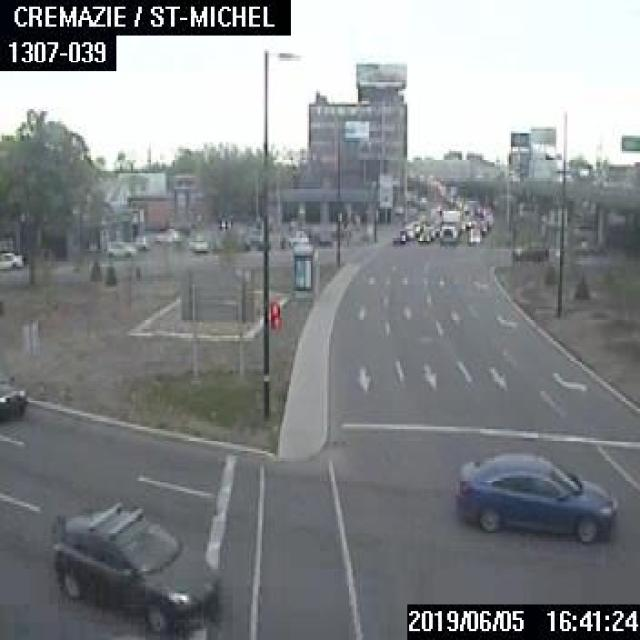vehicle: (45, 498, 222, 638), (453, 449, 618, 542), (0, 371, 29, 418), (437, 209, 460, 244), (507, 241, 549, 260), (0, 250, 22, 270), (153, 226, 180, 242), (106, 241, 134, 256), (188, 234, 208, 252), (465, 227, 480, 244), (132, 234, 147, 249), (391, 228, 405, 244), (416, 228, 429, 241), (402, 222, 413, 237), (411, 218, 422, 233), (423, 224, 435, 237)
